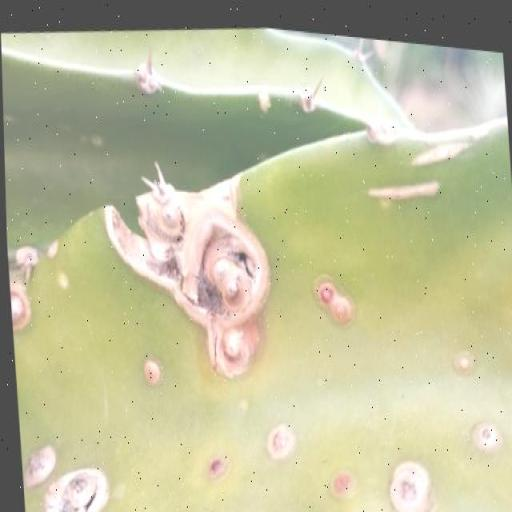stemcanker: (245, 378, 277, 424), (454, 400, 490, 436), (176, 403, 210, 440), (304, 428, 338, 464), (125, 297, 151, 332), (444, 329, 469, 360), (42, 200, 66, 231)
